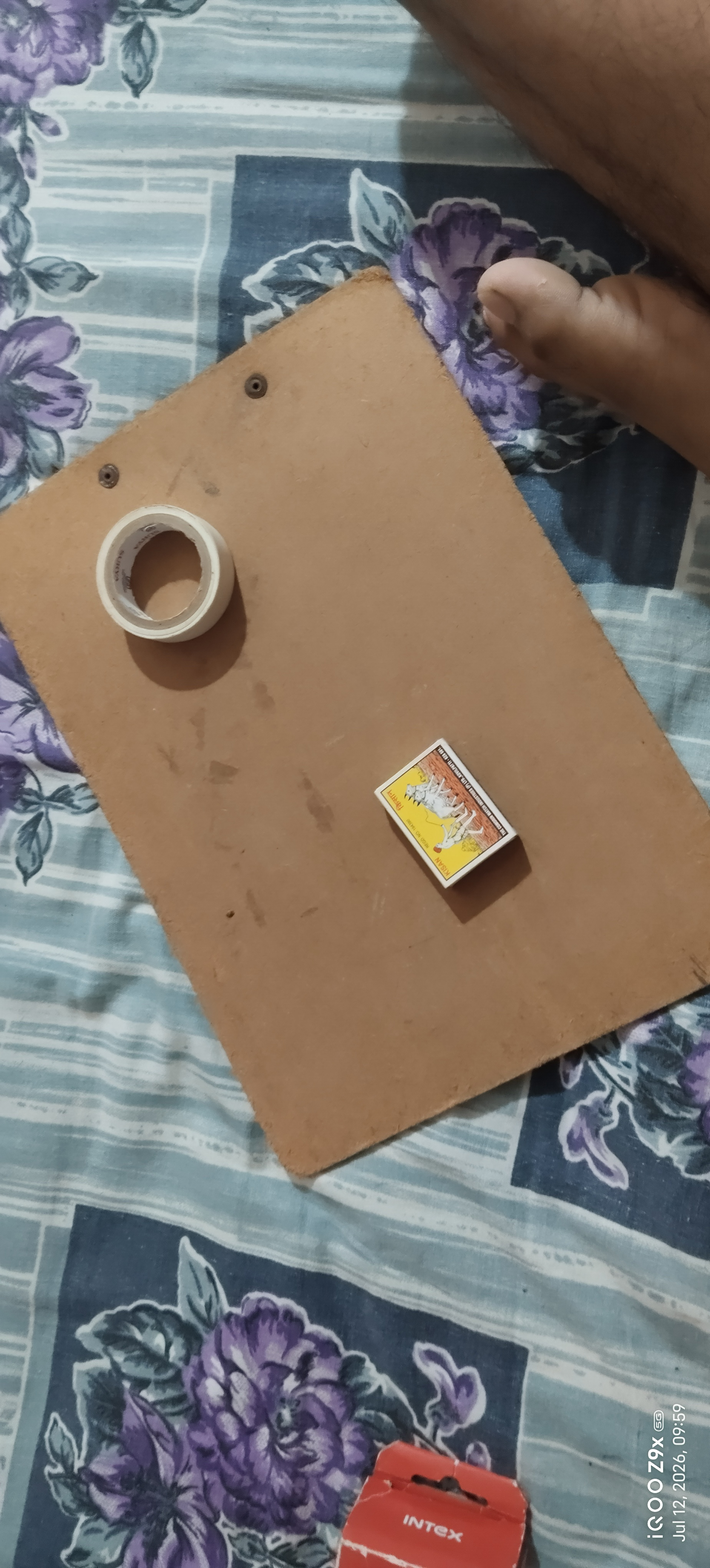matchbox: (359, 714, 530, 919)
tape_roll: (85, 493, 246, 661)
